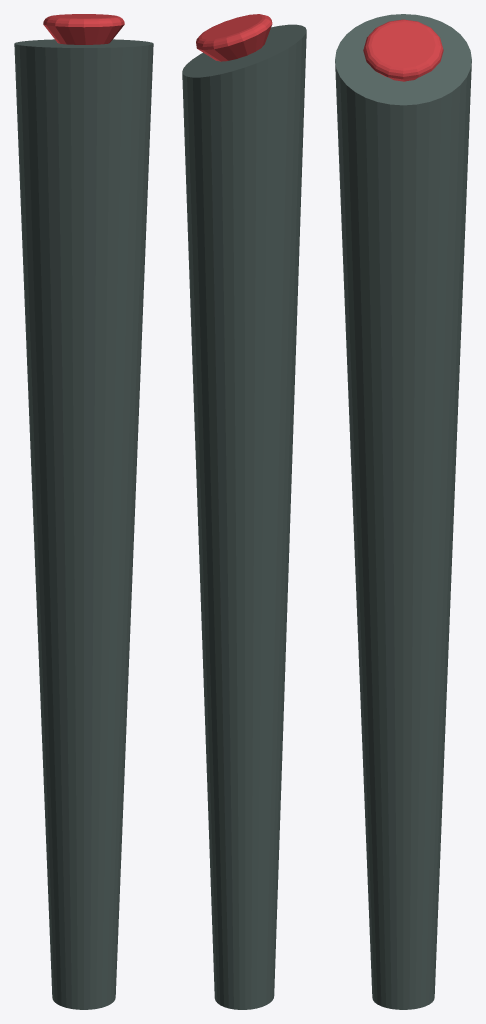
The model's file is button.glb.
3 renders of one model, left to right at view 1: azimuth 90°, elevation 25°; view 2: azimuth 150°, elevation 25°; view 3: azimuth 270°, elevation 25°, orthographic.
Visible parts, largest first — view 1: pedestal, button; view 2: pedestal, button; view 3: pedestal, button.
Boxes of the visible parts, <box> form: pedestal: <box>14,39,153,1009</box>; button: <box>43,14,124,44</box>; pedestal: <box>182,24,306,1009</box>; button: <box>196,14,272,61</box>; pedestal: <box>335,14,471,1009</box>; button: <box>363,19,443,81</box>.
Bounding box in the file's own units: 0.1476 × 1.33 × 0.1702.
